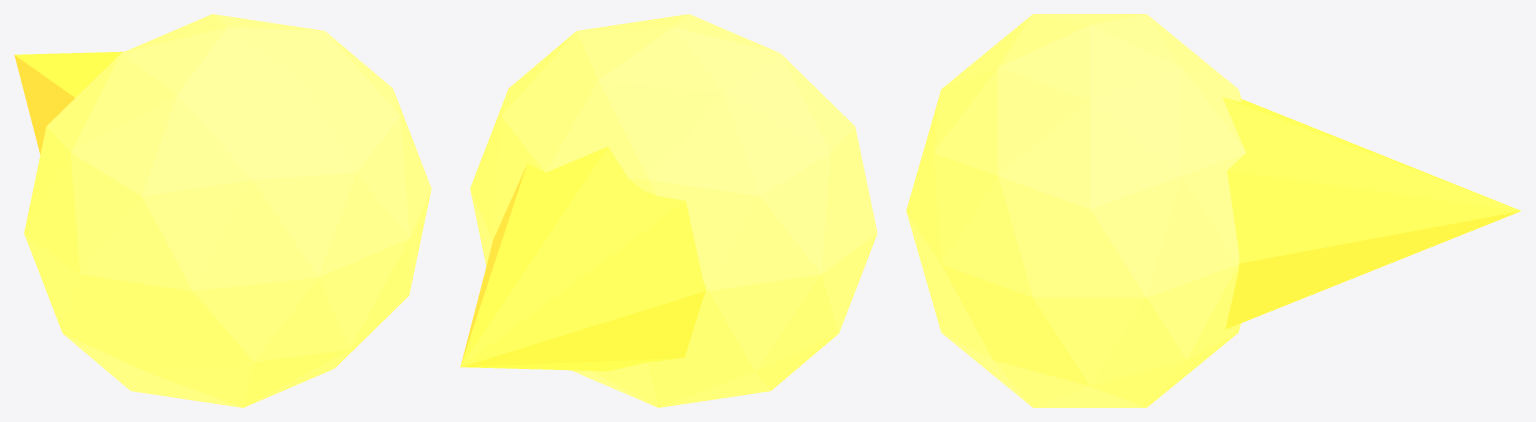
The model's file is weapon_lantern_bolt.glb.
3 renders of one model, left to right at view 1: azimuth 30°, elevation 25°; view 2: azimuth 150°, elevation 25°; view 3: azimuth 270°, elevation 25°, orthographic.
Parts seen in each view (by area): view 1: weapon_lantern_bolt; view 2: weapon_lantern_bolt; view 3: weapon_lantern_bolt.
Part boxes in pixels (box(x1,y1,x2,y2)): weapon_lantern_bolt: box(14, 14, 431, 407); weapon_lantern_bolt: box(460, 14, 877, 407); weapon_lantern_bolt: box(906, 14, 1520, 407).
Bounding box in the file's own units: 0.4 × 0.4 × 0.6.
